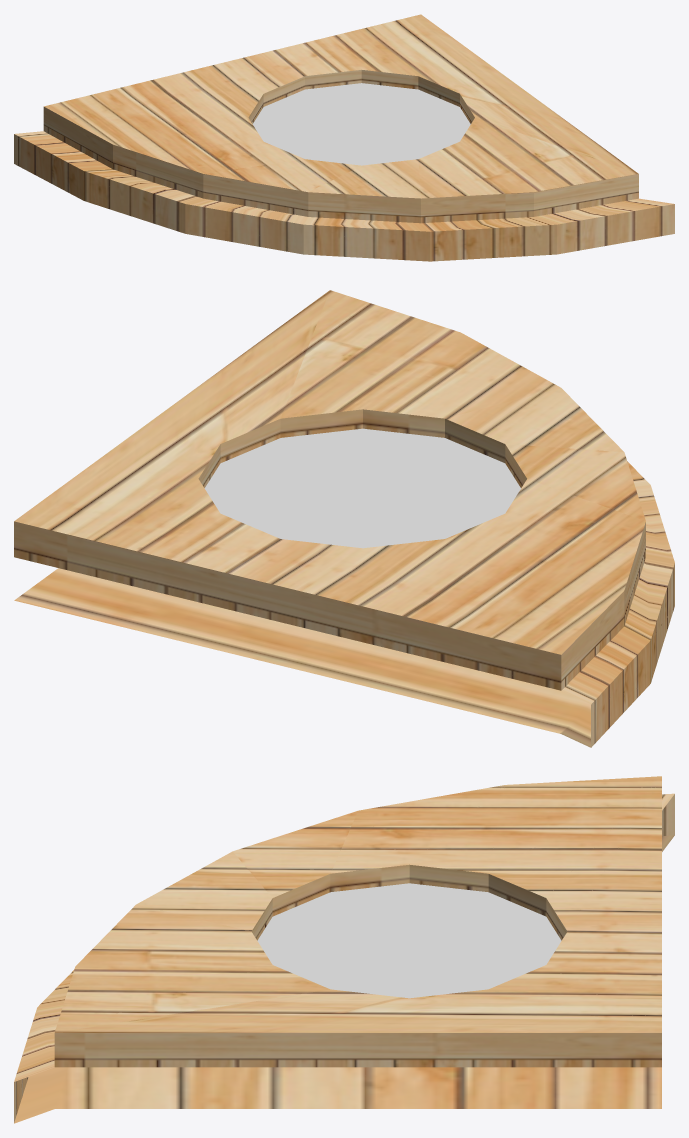
File: BathroomCorner.fbx
The picture shows the model from 3 angles, top to bottom: view 1: azimuth 30°, elevation 25°; view 2: azimuth 150°, elevation 25°; view 3: azimuth 270°, elevation 25°; orthographic projection. The views are drawn at different scales.
Parts seen in each view (by area): view 1: Cylinder.007; view 2: Cylinder.007; view 3: Cylinder.007.
Boxes of the visible parts, x1,y1,x2,y2 form: Cylinder.007: [14, 14, 674, 261]; Cylinder.007: [14, 290, 674, 747]; Cylinder.007: [14, 776, 674, 1123].
Bounding box in the file's own units: 432 × 53.18 × 418.
Materials: 2 (1 with a texture image).
